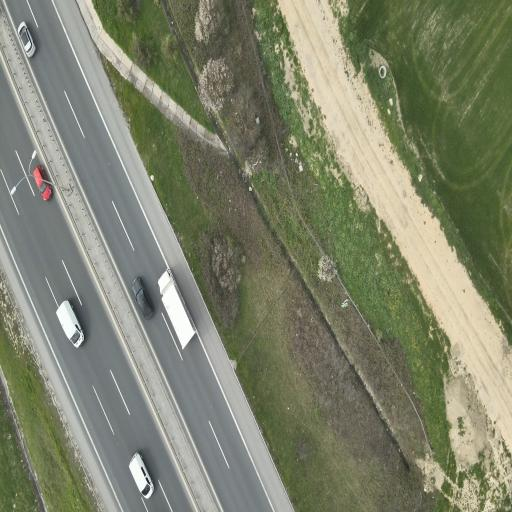car: (158, 269, 195, 348), (57, 301, 84, 347), (129, 453, 153, 498), (132, 278, 153, 319), (33, 165, 52, 200), (18, 22, 35, 57)
